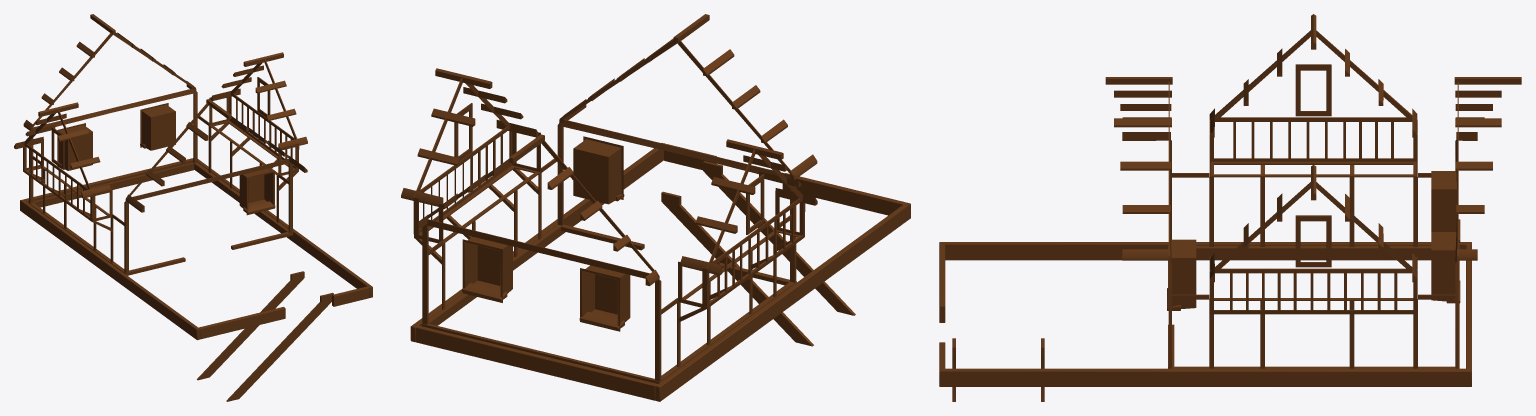
File: FairyTale139.gltf
3 views of the same model, side by side, from view 1: azimuth 30°, elevation 25°; view 2: azimuth 150°, elevation 25°; view 3: azimuth 270°, elevation 25° (orthographic). The views are drawn at different scales.
Parts seen in each view (by area): view 1: HouseSM_Wood_Beams; view 2: HouseSM_Wood_Beams; view 3: HouseSM_Wood_Beams.
Boxes of the visible parts, left/top/right/bottom form: HouseSM_Wood_Beams: left=14, top=14, right=372, bottom=401; HouseSM_Wood_Beams: left=401, top=14, right=910, bottom=401; HouseSM_Wood_Beams: left=939, top=14, right=1521, bottom=401.
Size of the model in its own units: 7.05 by 6.52 by 9.69.
